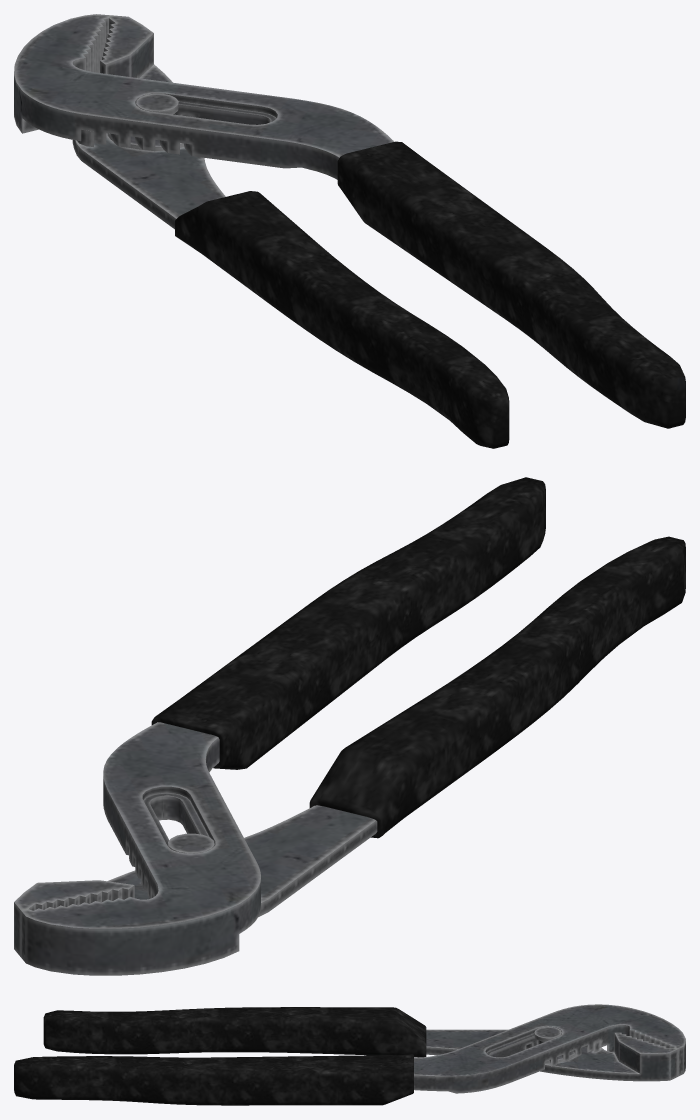
File: tongue_groove_pliers.glb
3 renders of one model, top to bottom at view 1: azimuth 30°, elevation 25°; view 2: azimuth 150°, elevation 25°; view 3: azimuth 270°, elevation 25°, orthographic. The views are drawn at different scales.
Parts seen in each view (by area): view 1: tongue_groove_pliers; view 2: tongue_groove_pliers; view 3: tongue_groove_pliers.
Boxes of the visible parts, <box> form: tongue_groove_pliers: <box>14,14,685,448</box>; tongue_groove_pliers: <box>14,477,685,975</box>; tongue_groove_pliers: <box>14,1004,685,1105</box>.
Size of the model in its own units: 0.0625 by 0.0139 by 0.2444.
1 material, 1 textured.
